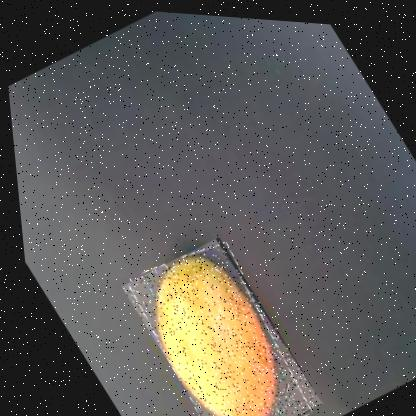mango: (109, 226, 319, 415)
